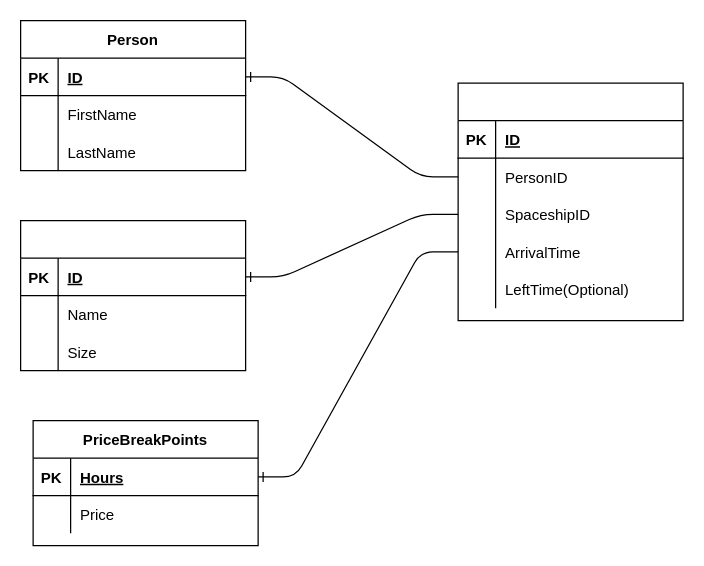
Image size: 704x566. Some labels were removed from this diagram. Here are the shapes that lost their labels. From the top down, the box of each, then its label:
(457, 82, 683, 321): Occupancy
(19, 219, 246, 371): SpaceShip
